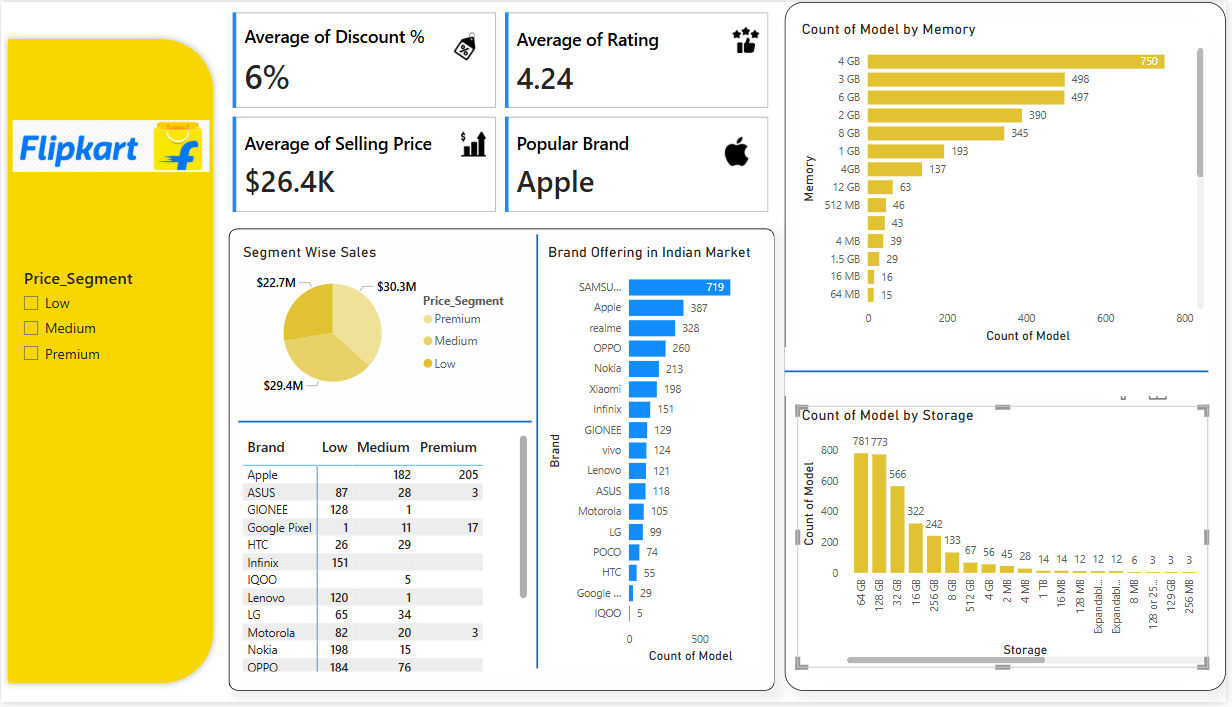

The page's visual inventory and layout, read from the dashboard file:
{"tool":"powerbi","page":{"name":"Page 1","canvas":[1400,800],"ordinal":0},"visuals":[{"type":"shape","box":[0,34.8,250.9,752.6],"z":0},{"type":"cardVisual","fields":{"Data":["Avg(Flipkart_Mobiles.Discount %)","Avg(Flipkart_Mobiles.Rating)","Avg(Flipkart_Mobiles.Selling Price)","Min(Flipkart_Mobiles.Brand)"]},"box":[260,7.5,623.8,238.8],"z":1000},{"type":"shape","box":[260,258.6,624.3,528.6],"z":2000},{"type":"pieChart","title":"Segment Wise Sales","fields":{"Category":["Flipkart_Mobiles.Price_Segment"],"Y":["Sum(Flipkart_Mobiles.Selling Price)"]},"box":[271.4,275.7,315.7,185.7],"z":3000},{"type":"clusteredBarChart","title":"Brand Offering Most  Product ","fields":{"Y":["CountNonNull(Flipkart_Mobiles.Model)"],"Category":["Flipkart_Mobiles.Brand"]},"box":[620,275.7,254.3,494.3],"z":4000},{"type":"shape","box":[271.2,411.2,335,136.2],"z":5000},{"type":"shape","box":[605.7,265.7,14.3,495.7],"z":6000},{"type":"pivotTable","title":"Brand Caters all differnt segment","fields":{"Rows":["Flipkart_Mobiles.Brand"],"Columns":["Flipkart_Mobiles.Price_Segment"],"Values":["CountNonNull(Flipkart_Mobiles.Model)"]},"box":[271.2,490,335,280],"z":7000},{"type":"shape","box":[895.7,0,504.3,787.1],"z":8000},{"type":"barChart","title":"Memory","fields":{"Category":["Flipkart_Mobiles.Memory","Flipkart_Mobiles.Storage"],"Y":["CountNonNull(Flipkart_Mobiles.Model)"]},"box":[912.5,20,471.2,373.8],"z":9000},{"type":"clusteredColumnChart","title":"Storage","fields":{"Category":["Flipkart_Mobiles.Storage"],"Y":["CountNonNull(Flipkart_Mobiles.Model)"]},"box":[902.5,450,470,300],"z":10000},{"type":"shape","box":[902.5,393.8,470,56.2],"z":11000},{"type":"image","box":[8.6,121.4,234.3,85.7],"z":12000},{"type":"slicer","fields":{"Values":["Flipkart_Mobiles.Price_Segment"]},"box":[13.8,306.2,225,125],"z":13000}]}

Visuals, with their boxes in screenshot pixels (x1, y1, x2, y2), scaled from the page's 1400x800 canvas onto the 1232x707 screenshot:
shape: [x1=0, y1=31, x2=221, y2=696]
cardVisual - Avg(Flipkart_Mobiles.Discount %) x Avg(Flipkart_Mobiles.Rating): [x1=229, y1=7, x2=778, y2=218]
shape: [x1=229, y1=229, x2=778, y2=696]
"Segment Wise Sales" pieChart: [x1=239, y1=244, x2=517, y2=408]
"Brand Offering Most  Product " clusteredBarChart: [x1=546, y1=244, x2=769, y2=680]
shape: [x1=239, y1=363, x2=533, y2=484]
shape: [x1=533, y1=235, x2=546, y2=673]
"Brand Caters all differnt segment" pivotTable: [x1=239, y1=433, x2=533, y2=680]
shape: [x1=788, y1=0, x2=1231, y2=696]
"Memory" barChart: [x1=803, y1=18, x2=1218, y2=348]
"Storage" clusteredColumnChart: [x1=794, y1=398, x2=1208, y2=663]
shape: [x1=794, y1=348, x2=1208, y2=398]
image: [x1=8, y1=107, x2=214, y2=183]
slicer - Flipkart_Mobiles.Price_Segment: [x1=12, y1=271, x2=210, y2=381]
